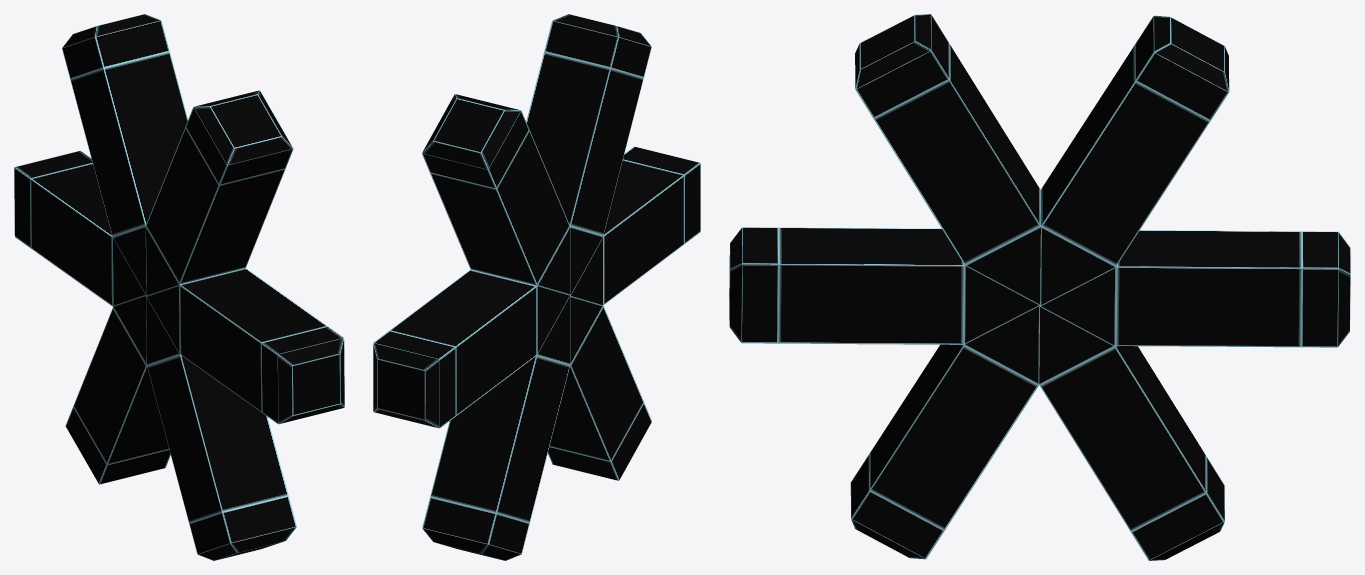
The model's file is Cryo.fbx.
3 renders of one model, left to right at view 1: azimuth 30°, elevation 25°; view 2: azimuth 150°, elevation 25°; view 3: azimuth 270°, elevation 25°, orthographic. The views are drawn at different scales.
Parts seen in each view (by area): view 1: pCylinder1; view 2: pCylinder1; view 3: pCylinder1.
Boxes of the visible parts, x1,y1,x2,y2 form: pCylinder1: (14, 14, 344, 560); pCylinder1: (373, 14, 700, 560); pCylinder1: (729, 14, 1350, 560).
Size of the model in its own units: 1.04 by 6.54 by 7.11.
Materials: 1 (1 with a texture image).
